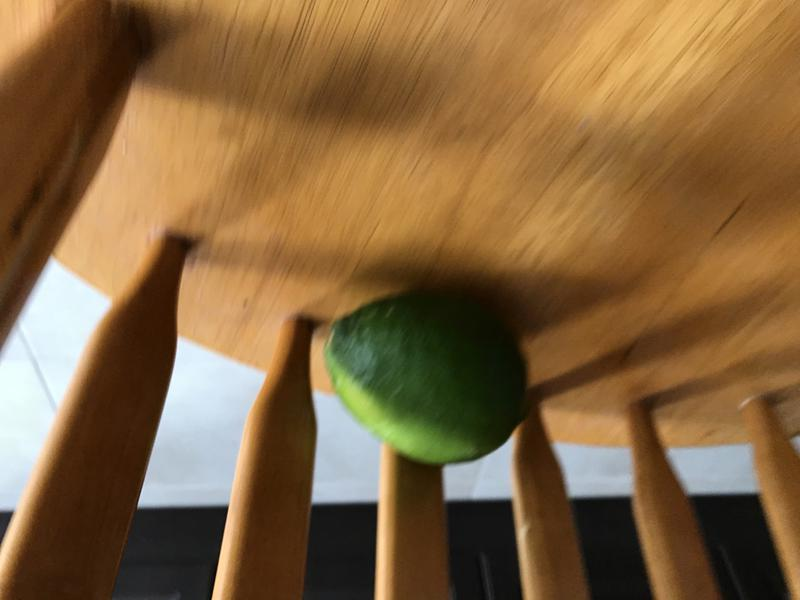lime: (322, 287, 544, 474)
